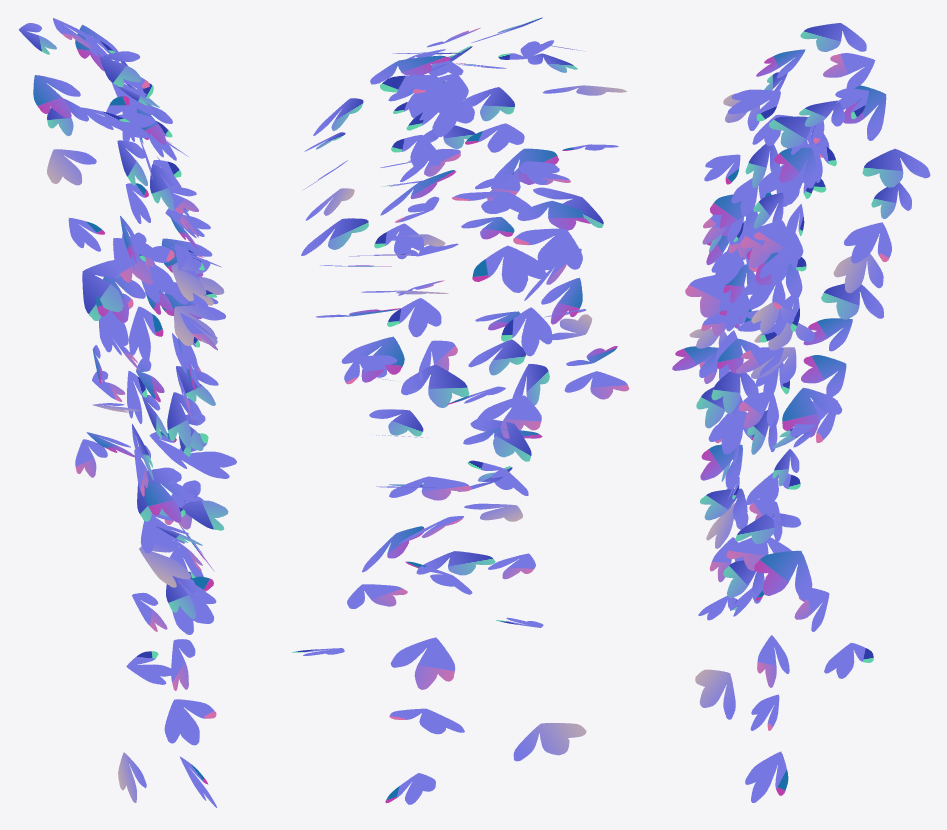
Rendered from SM_ivy_T_round_A_LOD1.fbx.
The picture shows the model from 3 angles, left to right: view 1: azimuth 30°, elevation 25°; view 2: azimuth 150°, elevation 25°; view 3: azimuth 270°, elevation 25°; orthographic projection. The views are drawn at different scales.
Visible parts, largest first — view 1: SM_ivy_T_round_A_LOD1; view 2: SM_ivy_T_round_A_LOD1; view 3: SM_ivy_T_round_A_LOD1.
Boxes of the visible parts, x1=… form: SM_ivy_T_round_A_LOD1: x1=19, y1=18, x2=236, y2=807; SM_ivy_T_round_A_LOD1: x1=292, y1=17, x2=629, y2=804; SM_ivy_T_round_A_LOD1: x1=672, y1=23, x2=930, y2=802.
Bounding box in the file's own units: 180 × 547 × 187.
